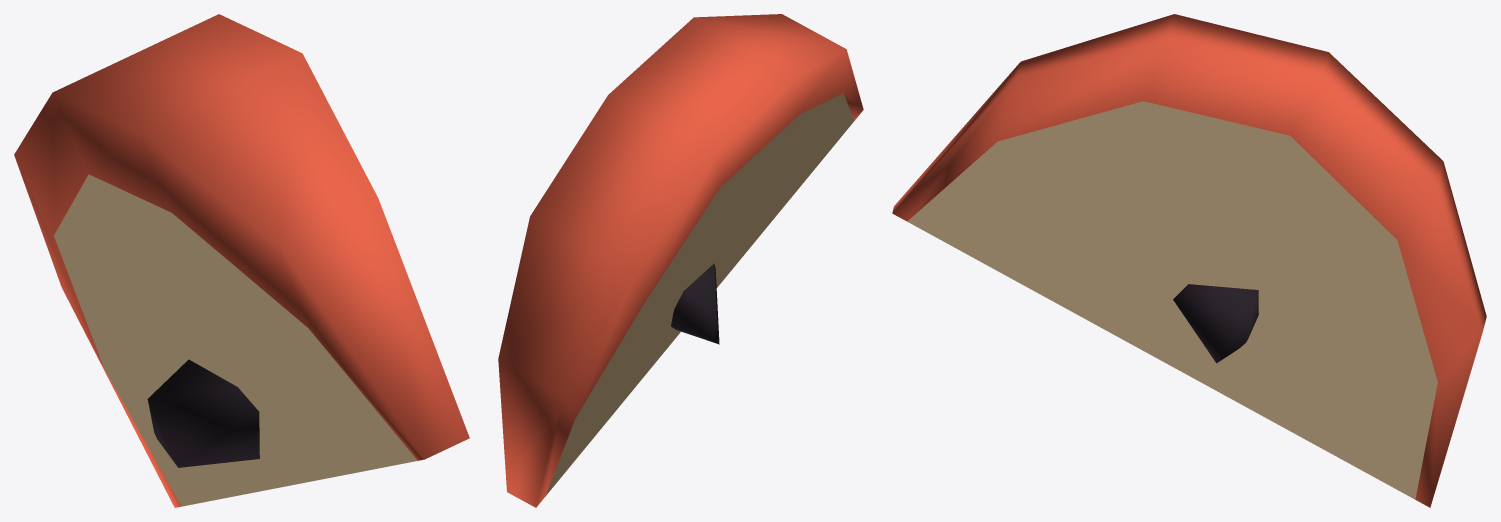
File: Good Food 1.fbx
3 renders of one model, left to right at view 1: azimuth 30°, elevation 25°; view 2: azimuth 150°, elevation 25°; view 3: azimuth 270°, elevation 25°, orthographic. The views are drawn at different scales.
Parts seen in each view (by area): view 1: Good Food_001; view 2: Good Food_001; view 3: Good Food_001.
Part boxes in pixels (x1,y1,x2,y2): Good Food_001: [14, 14, 469, 507]; Good Food_001: [498, 14, 863, 507]; Good Food_001: [892, 14, 1486, 507].
Size of the model in its own units: 9.19 by 19.43 by 23.7.
